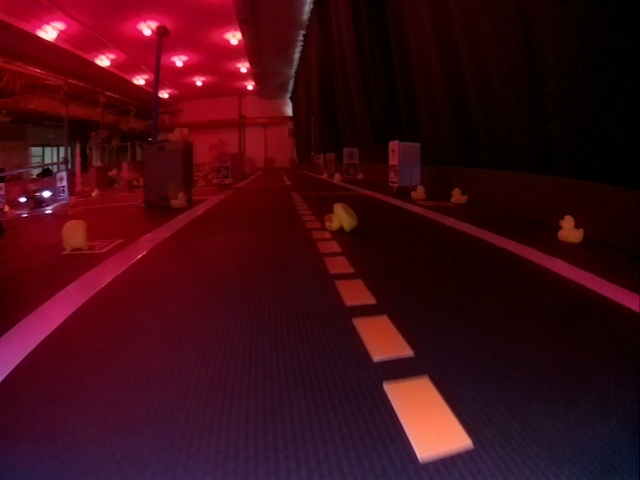Duckie: (323, 204, 355, 232), (62, 220, 87, 250), (557, 215, 583, 243), (169, 192, 189, 207), (450, 188, 468, 203), (410, 184, 425, 198), (356, 172, 365, 180)
Intersection sign: (389, 143, 398, 163)
QR code: (343, 162, 358, 177), (216, 166, 231, 179), (389, 164, 398, 185), (57, 186, 66, 197)
